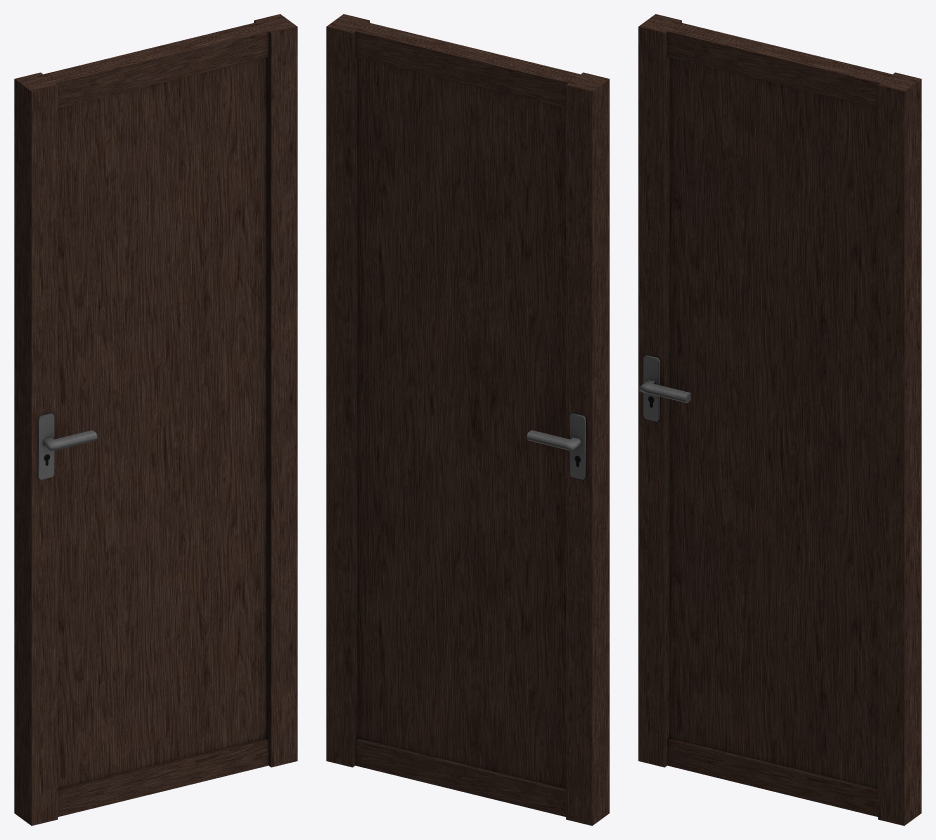
Rendered from SM_Door.fbx.
3 renders of one model, left to right at view 1: azimuth 30°, elevation 25°; view 2: azimuth 150°, elevation 25°; view 3: azimuth 330°, elevation 25°, orthographic.
Visible parts, largest first — view 1: Door; view 2: Door; view 3: Door.
Boxes of the visible parts, x1,y1,x2,y2 form: Door: [14, 14, 297, 825]; Door: [326, 14, 609, 825]; Door: [638, 14, 921, 825].
Bounding box in the file's own units: 128 × 338 × 29.46.
